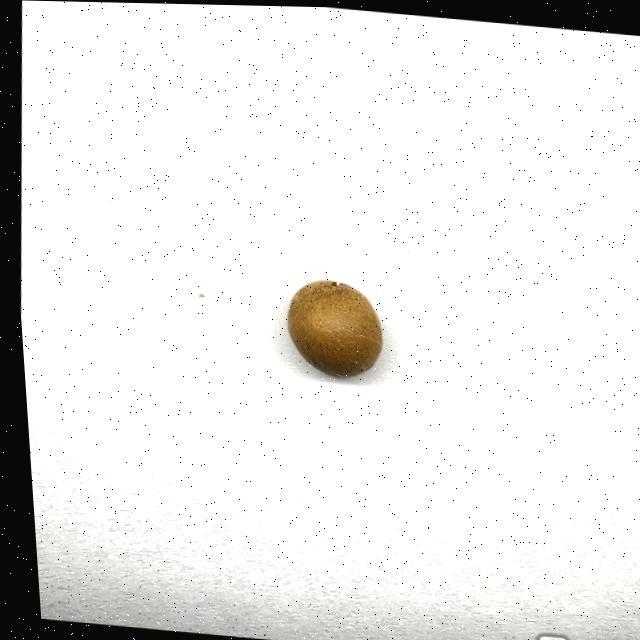Quaker: (280, 274, 379, 379)
